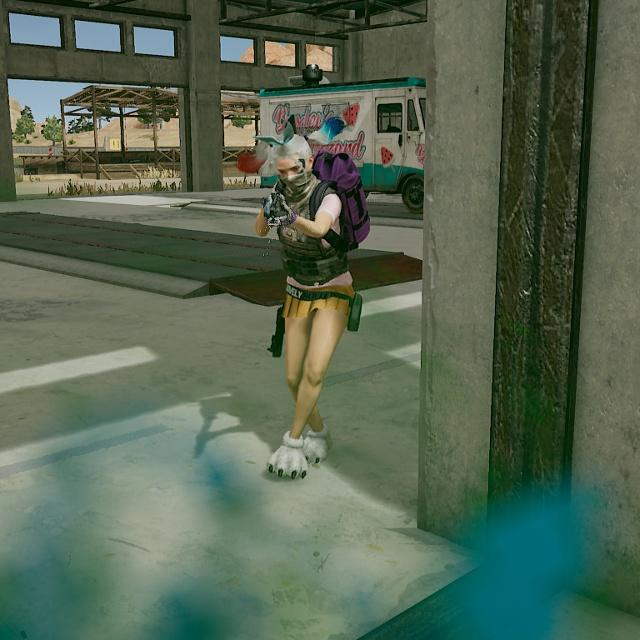head: (270, 131, 316, 197)
people: (252, 125, 361, 485)
